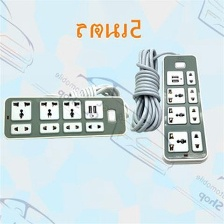three_eye_plug: (0, 93, 130, 142), (158, 51, 209, 165)
